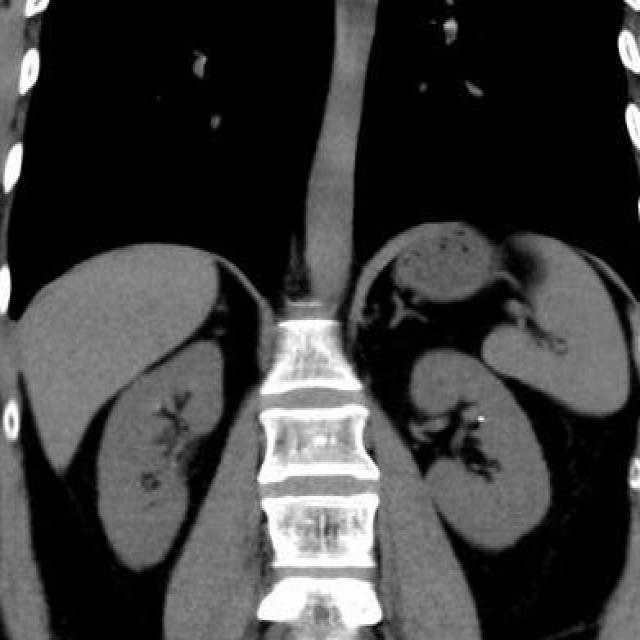Tas_Var: (475, 412, 491, 424)
